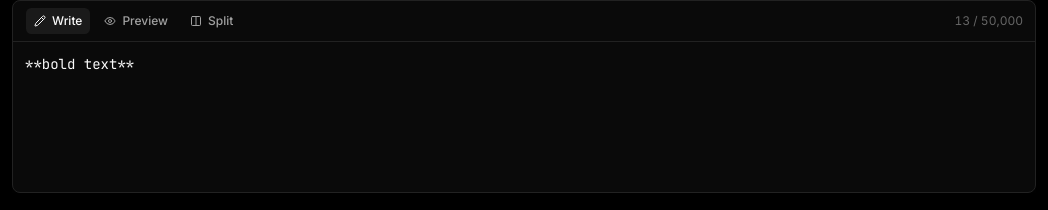
Test case: MarkdownEditor › switches to preview mode
Click the button "Preview".
click(136, 21)  # box [95,7,177,35]
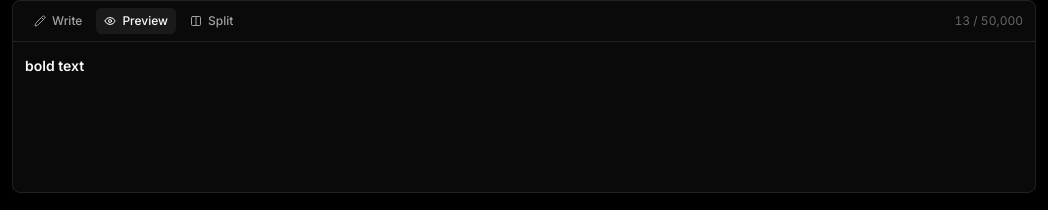
expect the text "bold text" is shown: met, box [25,57,84,74]
